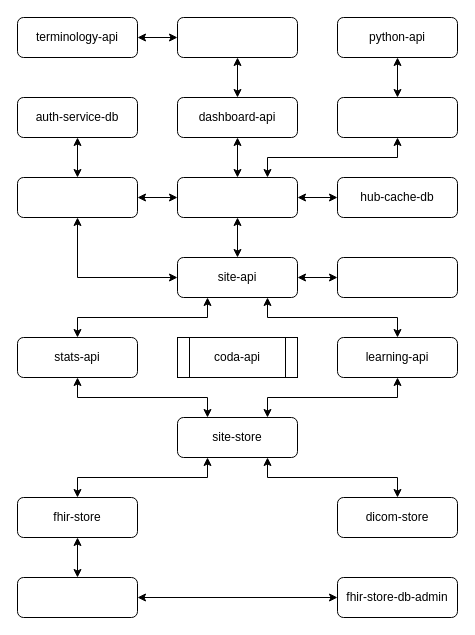
Image size: 475x635. Some labels were removed from this diagram. Each missing label, with the box of its shape:
auth-service: (16, 176, 138, 218)
dashboard-app: (176, 16, 298, 58)
fhir-store-db: (16, 576, 138, 618)
hub-api: (176, 176, 298, 218)
notebook-app: (336, 96, 458, 138)
site-cache-db: (336, 256, 458, 298)
